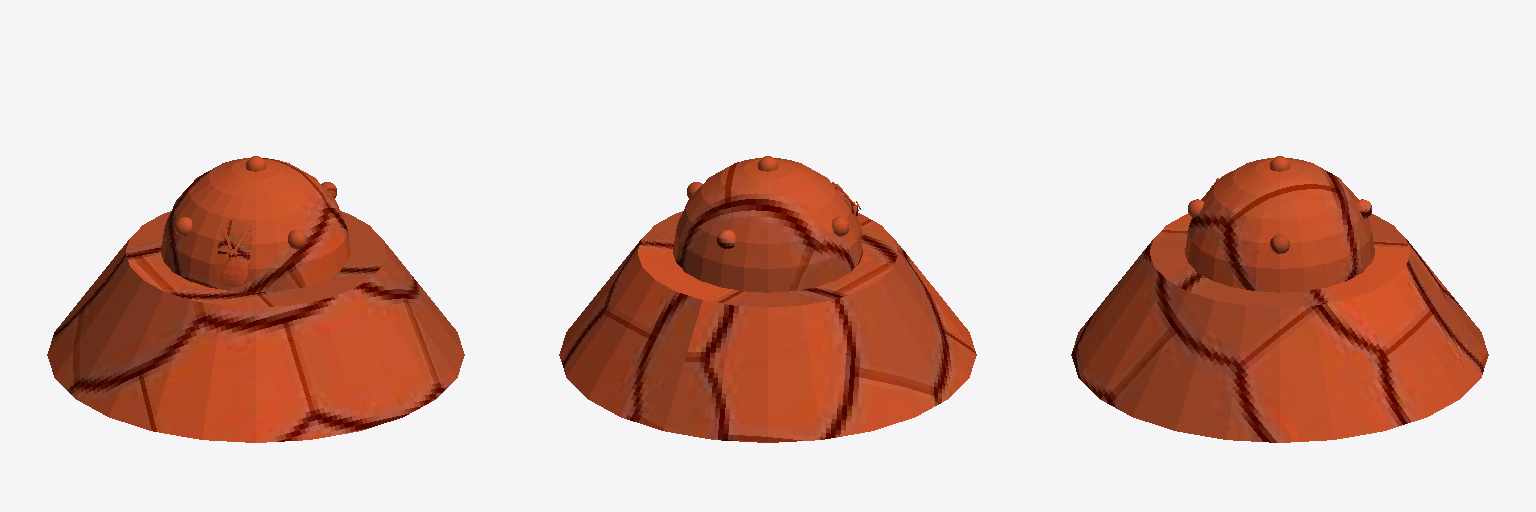
3 renders of one model, left to right at view 1: azimuth 30°, elevation 25°; view 2: azimuth 150°, elevation 25°; view 3: azimuth 270°, elevation 25°, orthographic.
Visible parts, largest first — view 1: ARV_lowpoly; view 2: ARV_lowpoly; view 3: ARV_lowpoly.
Part boxes in pixels (x1,y1,x2,y2): ARV_lowpoly: (47, 156, 464, 442); ARV_lowpoly: (559, 156, 976, 442); ARV_lowpoly: (1071, 156, 1488, 442).
Size of the model in its own units: 12.49 by 6.53 by 12.49.
Materials: 1 (1 with a texture image).